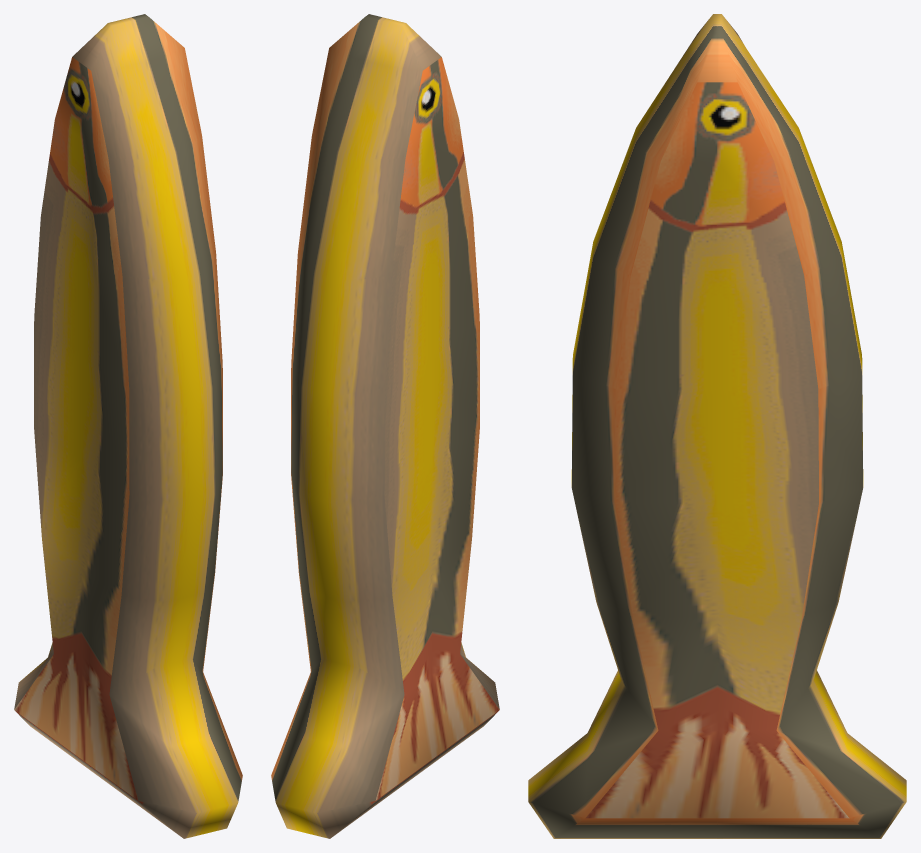
The model's file is Fish.fbx.
3 views of the same model, side by side, from view 1: azimuth 30°, elevation 25°; view 2: azimuth 150°, elevation 25°; view 3: azimuth 270°, elevation 25° (orthographic). The views are drawn at different scales.
Visible parts, largest first — view 1: Plane.003; view 2: Plane.003; view 3: Plane.003.
Part boxes in pixels (x1,y1,x2,y2): Plane.003: (14,14,242,838); Plane.003: (271,14,499,838); Plane.003: (528,14,906,838).
Bounding box in the file's own units: 29.13 × 202 × 86.14.
